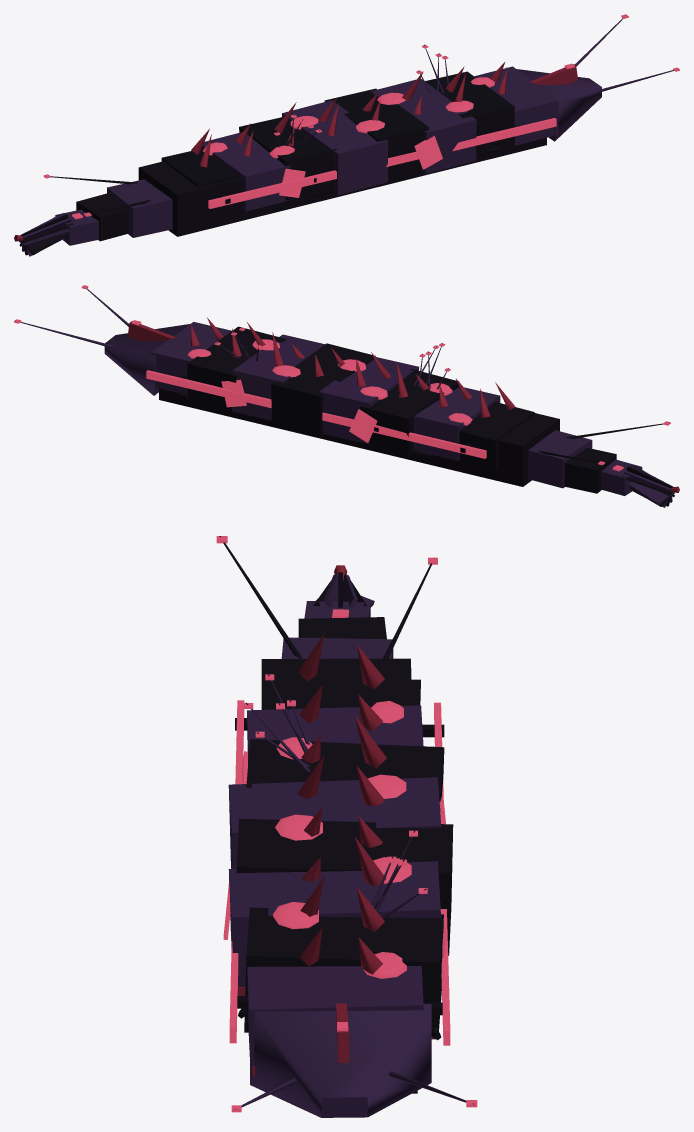
File: cruiser-directorate.glb
3 renders of one model, top to bottom at view 1: azimuth 30°, elevation 25°; view 2: azimuth 150°, elevation 25°; view 3: azimuth 270°, elevation 25°, orthographic. The views are drawn at different scales.
Parts seen in each view (by area): view 1: body_core, plate_rank_4, plate_rank_2, plate_rank_3, plate_rank_5, plate_rank_6, plate_rank_1, plate_rank_0, light_band_s, tail_1, head_shield, plate_rank_7 (+5 smaller); view 2: body_core, plate_rank_3, plate_rank_5, plate_rank_4, plate_rank_1, plate_rank_2, plate_rank_6, light_band_p, plate_rank_7, tail_1, plate_rank_0, head_shield (+6 smaller); view 3: head_shield, plate_rank_1, plate_rank_3, plate_rank_2, plate_rank_4, plate_rank_0, plate_rank_5, plate_rank_6, plate_rank_7, body_core, tail_1, tail_2 (+4 smaller).
Part boxes in pixels (bbox=[...]): body_core: bbox=[138, 137, 546, 236]; plate_rank_4: bbox=[282, 100, 388, 195]; plate_rank_2: bbox=[370, 78, 476, 173]; plate_rank_3: bbox=[324, 88, 428, 179]; plate_rank_5: bbox=[239, 117, 337, 200]; plate_rank_6: bbox=[201, 132, 293, 211]; plate_rank_1: bbox=[425, 71, 514, 154]; plate_rank_0: bbox=[474, 66, 558, 145]; light_band_s: bbox=[208, 118, 556, 208]; tail_1: bbox=[107, 179, 172, 237]; head_shield: bbox=[506, 67, 601, 141]; plate_rank_7: bbox=[161, 149, 240, 187]; body_core: bbox=[159, 388, 559, 486]; plate_rank_3: bbox=[271, 343, 375, 437]; plate_rank_5: bbox=[359, 369, 459, 456]; plate_rank_4: bbox=[319, 357, 418, 444]; plate_rank_1: bbox=[187, 326, 286, 414]; plate_rank_2: bbox=[232, 334, 324, 420]; plate_rank_6: bbox=[413, 387, 500, 460]; light_band_p: bbox=[146, 370, 486, 458]; plate_rank_7: bbox=[459, 402, 534, 469]; tail_1: bbox=[528, 430, 592, 488]; plate_rank_0: bbox=[151, 322, 231, 392]; head_shield: bbox=[104, 324, 189, 395]; head_shield: bbox=[250, 1004, 431, 1117]; plate_rank_1: bbox=[244, 907, 443, 1039]; plate_rank_3: bbox=[236, 818, 453, 955]; plate_rank_2: bbox=[228, 861, 441, 990]; plate_rank_4: bbox=[228, 777, 441, 868]; plate_rank_0: bbox=[247, 966, 423, 1077]; plate_rank_5: bbox=[246, 739, 444, 809]; plate_rank_6: bbox=[247, 705, 423, 764]; plate_rank_7: bbox=[269, 674, 420, 709]; body_core: bbox=[261, 658, 417, 1093]; tail_1: bbox=[281, 637, 393, 658]; tail_2: bbox=[298, 617, 386, 639].
Size of the model in its own units: 130 by 20 by 23.26.
